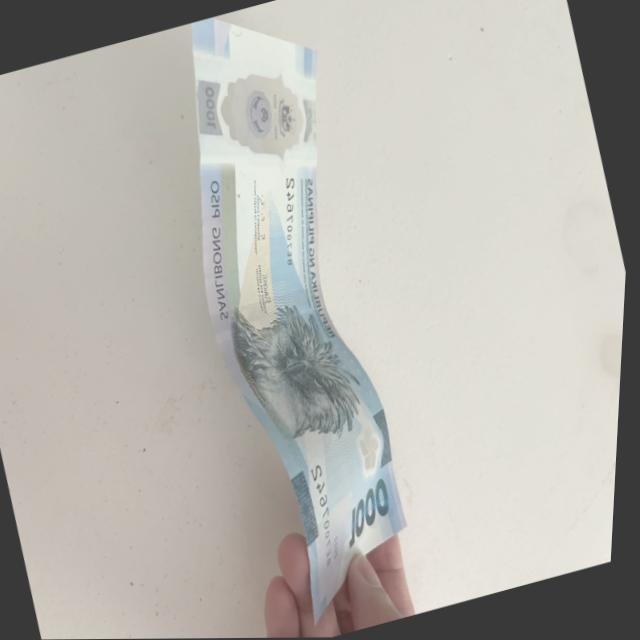clear_window: (199, 65, 314, 155)
eagle: (235, 282, 380, 452)
sampaguita: (344, 418, 397, 481)
security_thread: (212, 281, 333, 331)
serial_number: (260, 157, 322, 271), (303, 453, 354, 569)
value: (338, 470, 395, 561)
